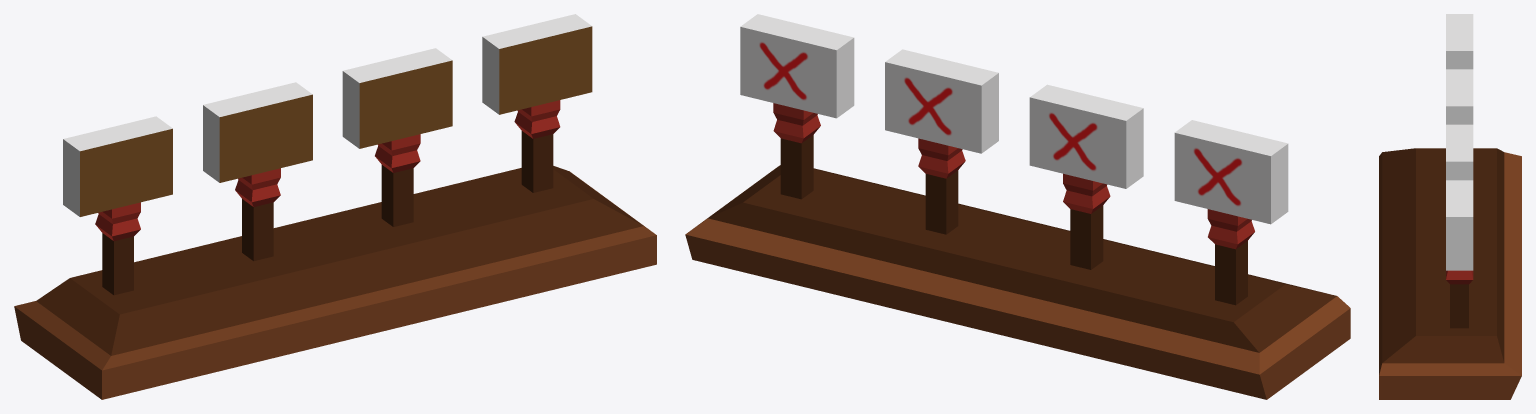
Rendered from ShootingRangeAssets.fbx.
3 renders of one model, left to right at view 1: azimuth 30°, elevation 25°; view 2: azimuth 150°, elevation 25°; view 3: azimuth 270°, elevation 25°, orthographic. The views are drawn at different scales.
Parts seen in each view (by area): view 1: ShootingBase, Shooting Thingy 2, Shooting Thingy, Shooting Thingy 3, Shooting Thingy 4; view 2: ShootingBase, Shooting Thingy 3, Shooting Thingy, Shooting Thingy 4, Shooting Thingy 2; view 3: ShootingBase, Shooting Thingy, Shooting Thingy 2, Shooting Thingy 3, Shooting Thingy 4.
Boxes of the visible parts, x1,y1,x2,y2 form: ShootingBase: [14, 166, 656, 399]; Shooting Thingy 2: [342, 48, 452, 226]; Shooting Thingy: [482, 14, 592, 192]; Shooting Thingy 3: [203, 82, 312, 261]; Shooting Thingy 4: [63, 116, 172, 295]; ShootingBase: [685, 165, 1350, 399]; Shooting Thingy 3: [1029, 84, 1143, 269]; Shooting Thingy: [740, 14, 854, 199]; Shooting Thingy 4: [1174, 120, 1288, 305]; Shooting Thingy 2: [885, 49, 998, 234]; ShootingBase: [1379, 148, 1521, 399]; Shooting Thingy: [1446, 180, 1473, 328]; Shooting Thingy 2: [1446, 124, 1473, 180]; Shooting Thingy 3: [1446, 69, 1473, 124]; Shooting Thingy 4: [1446, 14, 1473, 69].
Bounding box in the file's own units: 417 × 154 × 114.
